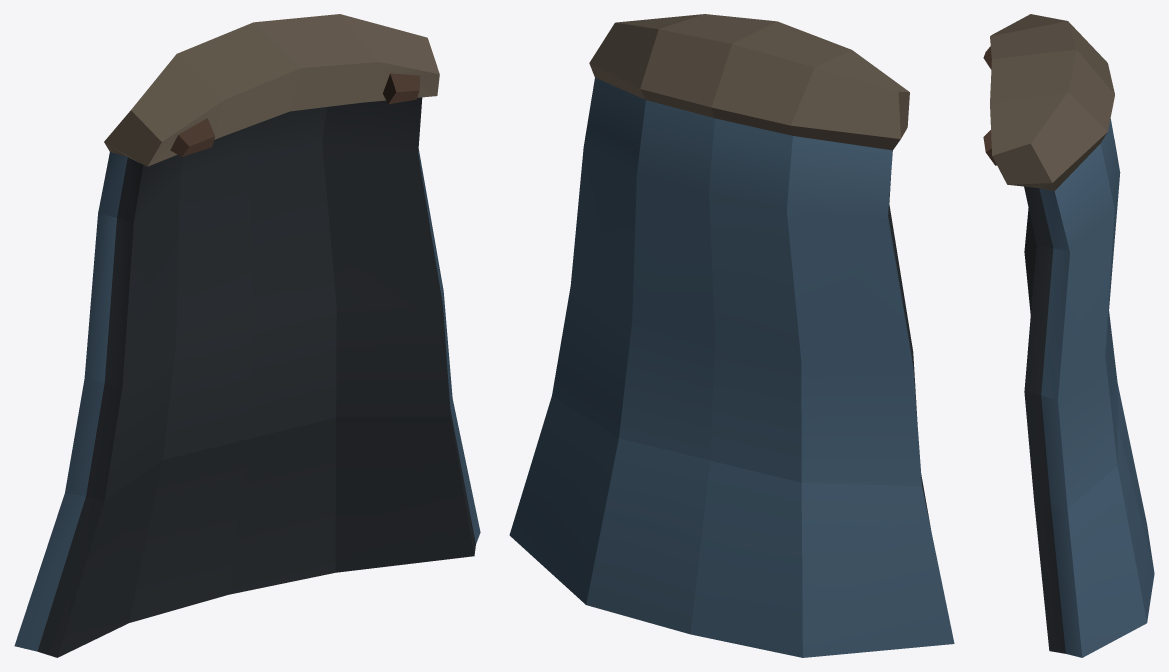
The model's file is Chr_BackAttachment_12_Static.fbx.
3 renders of one model, left to right at view 1: azimuth 30°, elevation 25°; view 2: azimuth 150°, elevation 25°; view 3: azimuth 270°, elevation 25°, orthographic. The views are drawn at different scales.
Visible parts, largest first — view 1: Chr_BackAttachment_12_Static; view 2: Chr_BackAttachment_12_Static; view 3: Chr_BackAttachment_12_Static.
Boxes of the visible parts, x1,y1,x2,y2 form: Chr_BackAttachment_12_Static: [14, 14, 480, 657]; Chr_BackAttachment_12_Static: [509, 14, 954, 657]; Chr_BackAttachment_12_Static: [983, 14, 1154, 657].
Size of the model in its own units: 0.6203 by 0.7512 by 0.2207.
